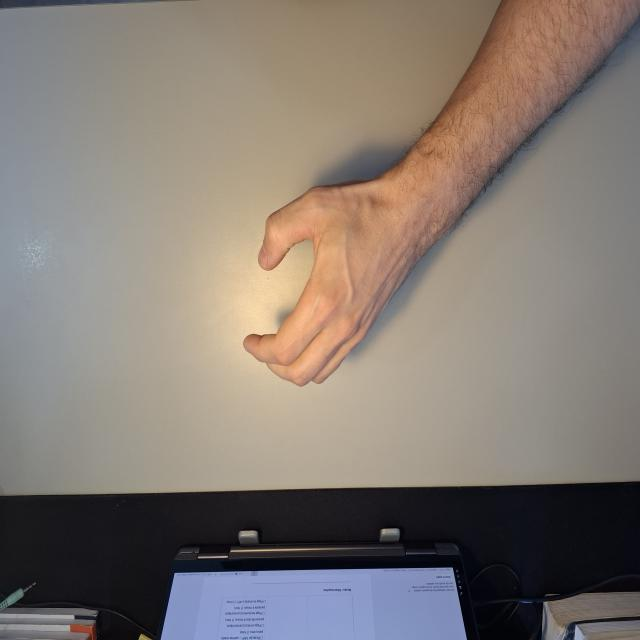glove_off: (241, 161, 421, 389)
